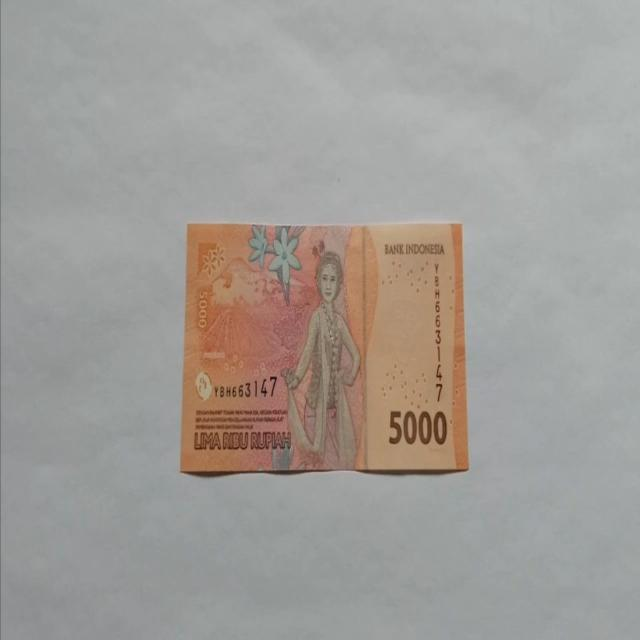lima ribu rupiah: (179, 220, 469, 476), (279, 249, 362, 472)
